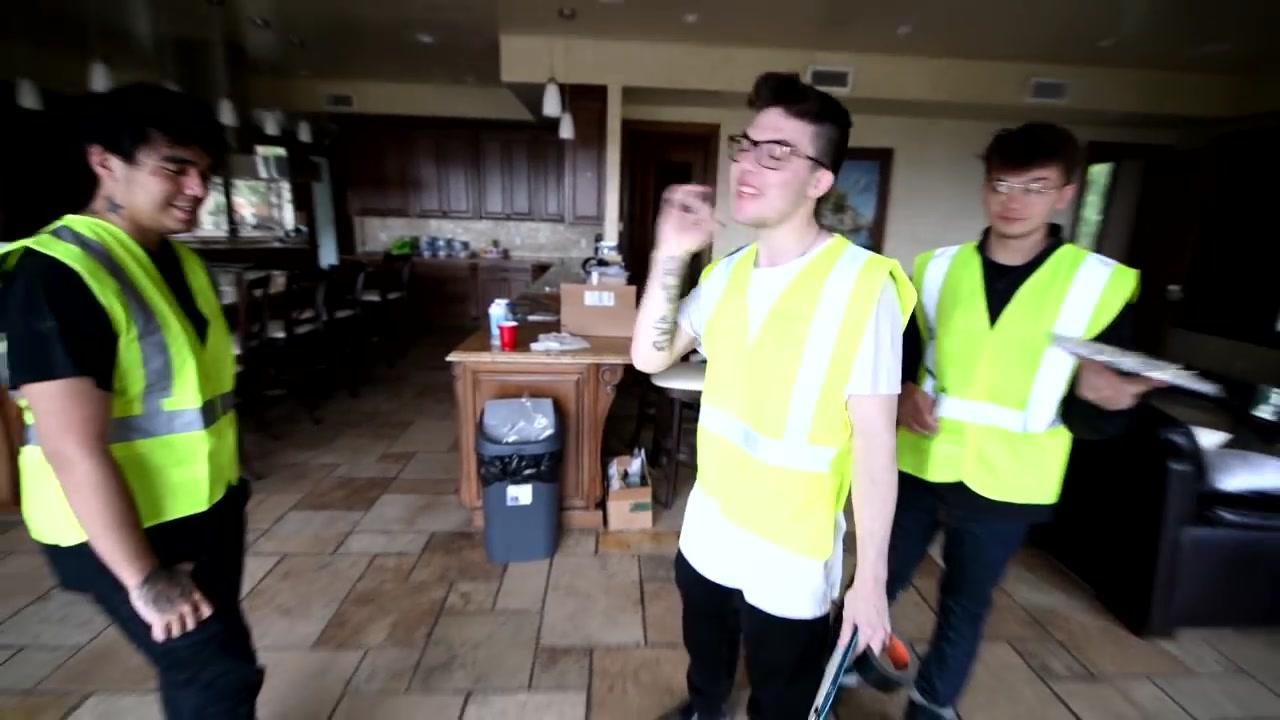Hi-Vis Jacket: (11, 234, 246, 547), (704, 255, 906, 546), (917, 229, 1123, 513)
